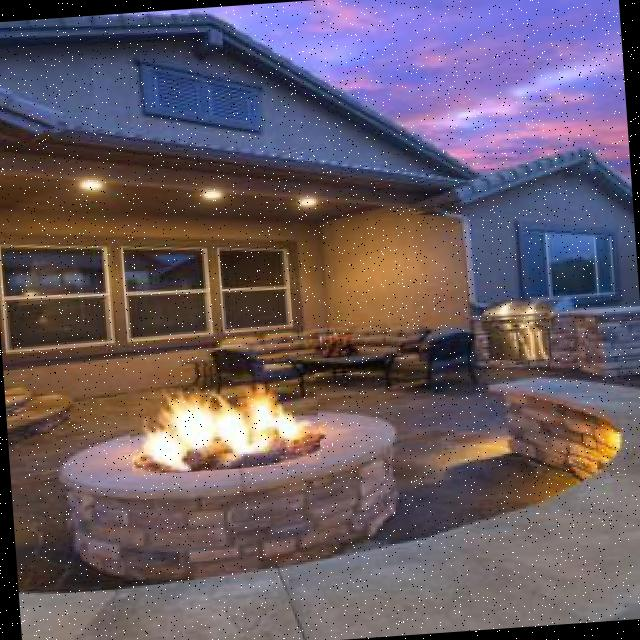fire: (125, 358, 321, 476)
